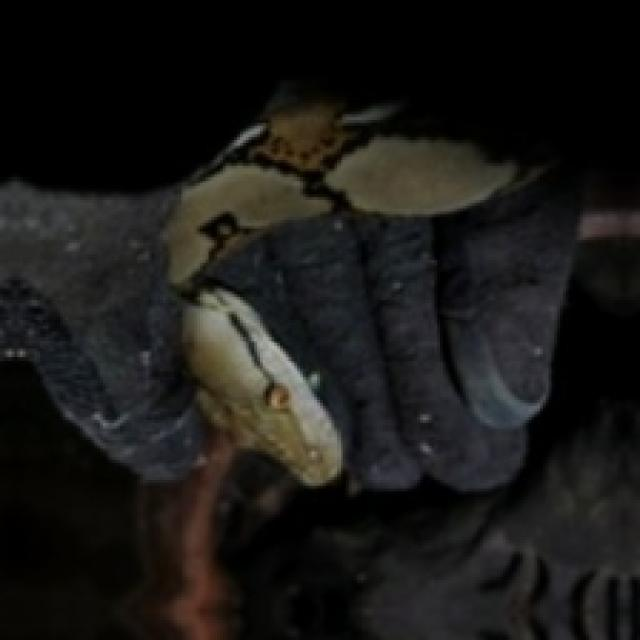reticulated python: (165, 91, 519, 486)
